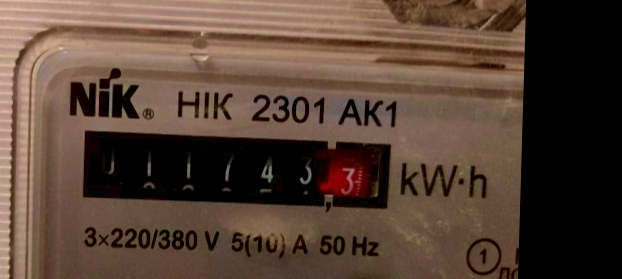0: (97, 141, 117, 178)
1: (180, 145, 196, 179), (143, 144, 154, 177)
3: (294, 151, 314, 187), (337, 165, 356, 198)
4: (257, 150, 275, 185)
7: (218, 148, 237, 183)
screen: (67, 118, 404, 221)
